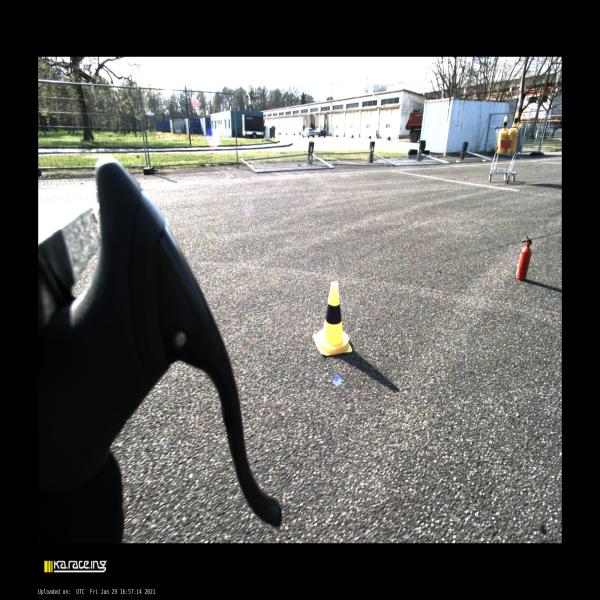yellow_cone: (313, 282, 352, 355), (510, 112, 518, 130), (500, 116, 508, 132), (517, 112, 520, 128)
